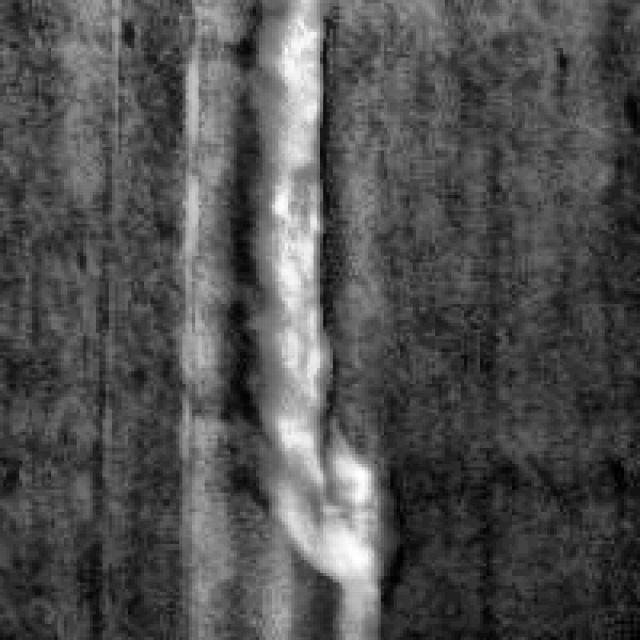Inclusion: (233, 0, 384, 621)
